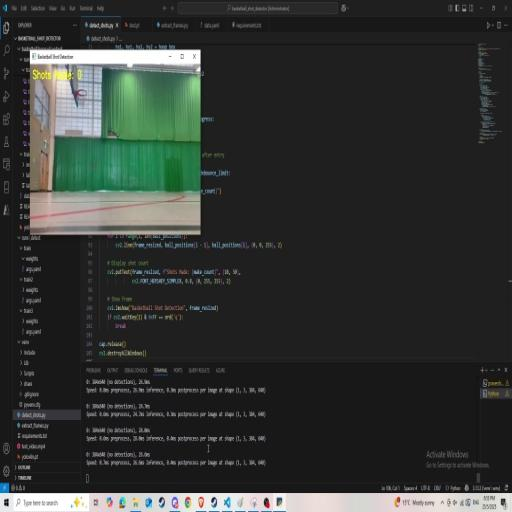hoops: (76, 87, 90, 111)
